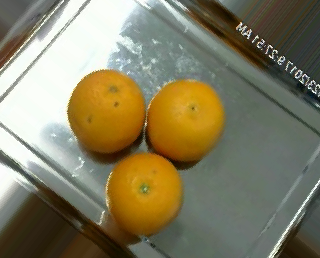Orange: (67, 69, 146, 154), (146, 78, 226, 161), (105, 153, 183, 234)
